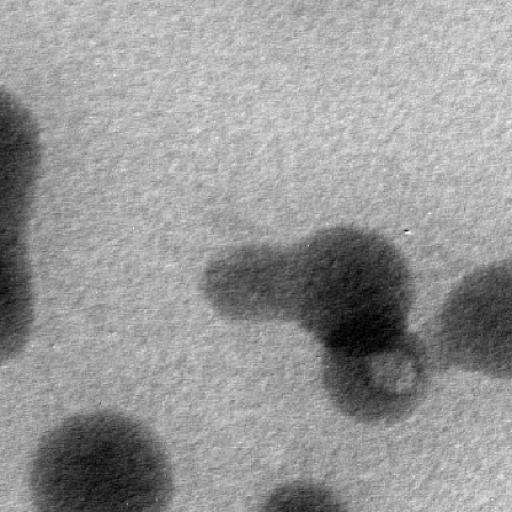Nanoparticles: (28, 405, 178, 512), (288, 223, 416, 347), (316, 319, 436, 438), (443, 258, 512, 385), (200, 239, 292, 324), (0, 80, 43, 224), (0, 224, 35, 371), (261, 479, 348, 512), (418, 306, 460, 372)
